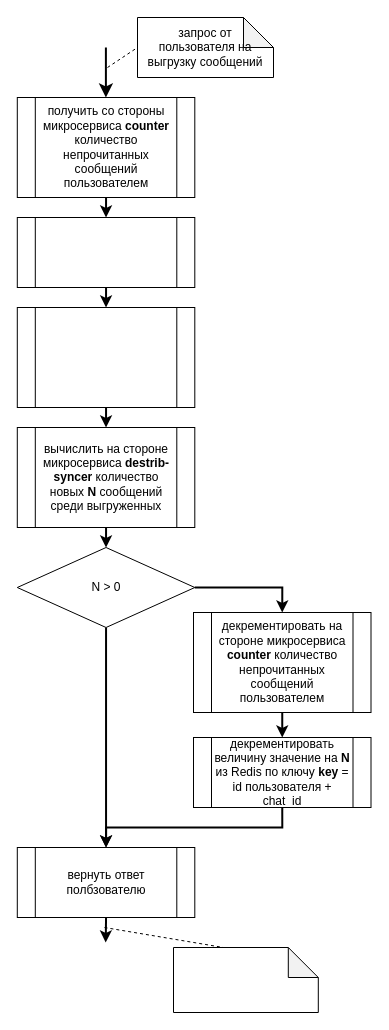
Image size: 389x1030. Some labels were removed from this diagram. The centre of each missing label's shape, as x and y in pixels:
"ответ пользовтелю в виде счетчика новых сообщений и самих сообщений" goes at point 245,979.
"получить из Redis величину значения по ключу key = id пользователя + chat_id" goes at point 105,252.
"получить со стороны микросервиса messenger сообщения с с заданным offset и limit" goes at point 105,357.
